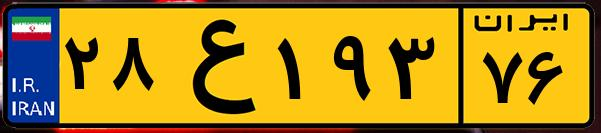1: (270, 28, 330, 110)
2: (57, 26, 110, 100)
3: (385, 28, 445, 110)
6: (525, 38, 570, 115)
7: (475, 38, 525, 113)
8: (110, 28, 158, 98)
9: (330, 28, 385, 110)
ع: (158, 12, 270, 120)
